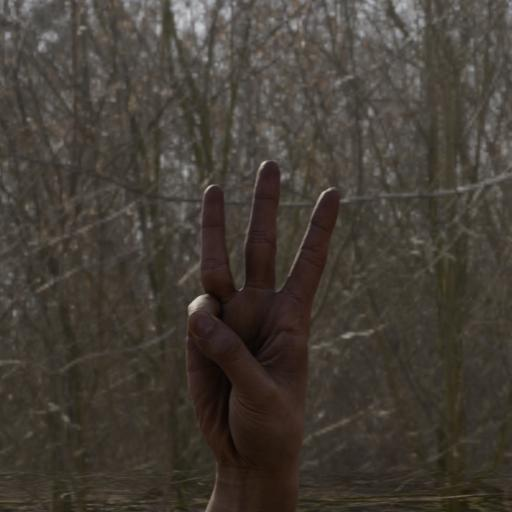W: (142, 147, 356, 512)
